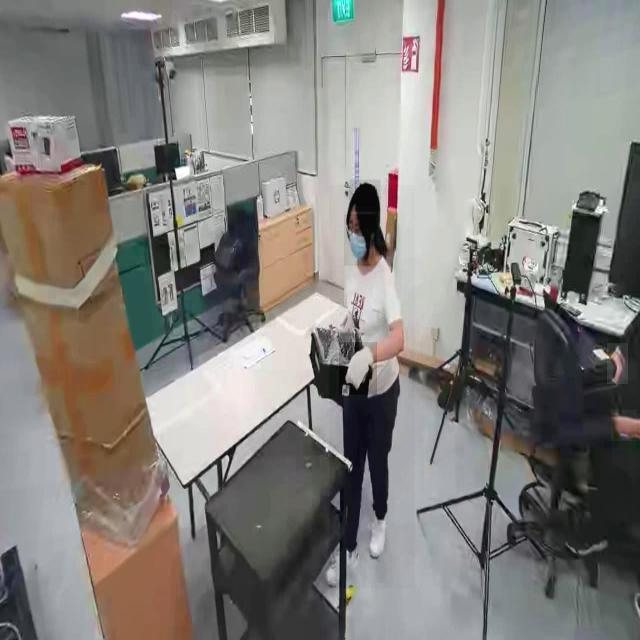face_mask: (344, 214, 376, 266)
hand_glove: (339, 342, 377, 395)
hand_noglove: (606, 343, 628, 385), (611, 410, 637, 442)
head_nohelmet: (349, 180, 381, 212)
person: (329, 185, 415, 589)
shoes: (322, 532, 360, 598), (367, 500, 389, 558)
